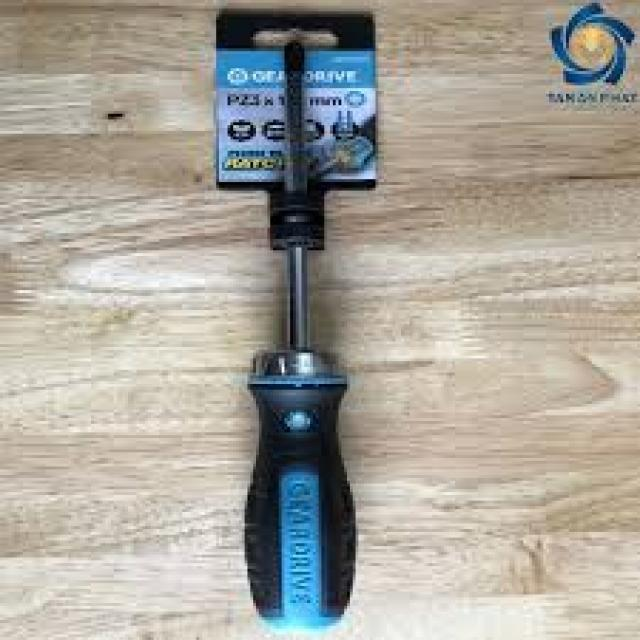screwdriver: (236, 36, 361, 638)
